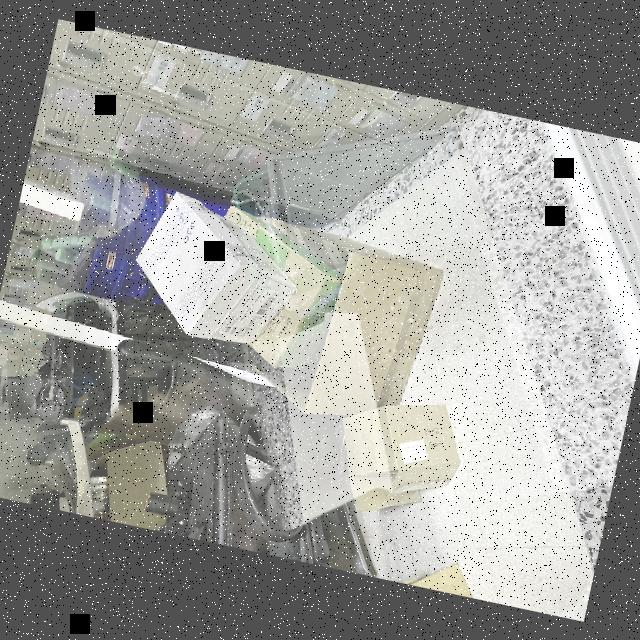cardboard_box: (235, 216, 450, 439), (121, 184, 306, 360), (317, 380, 472, 532)
